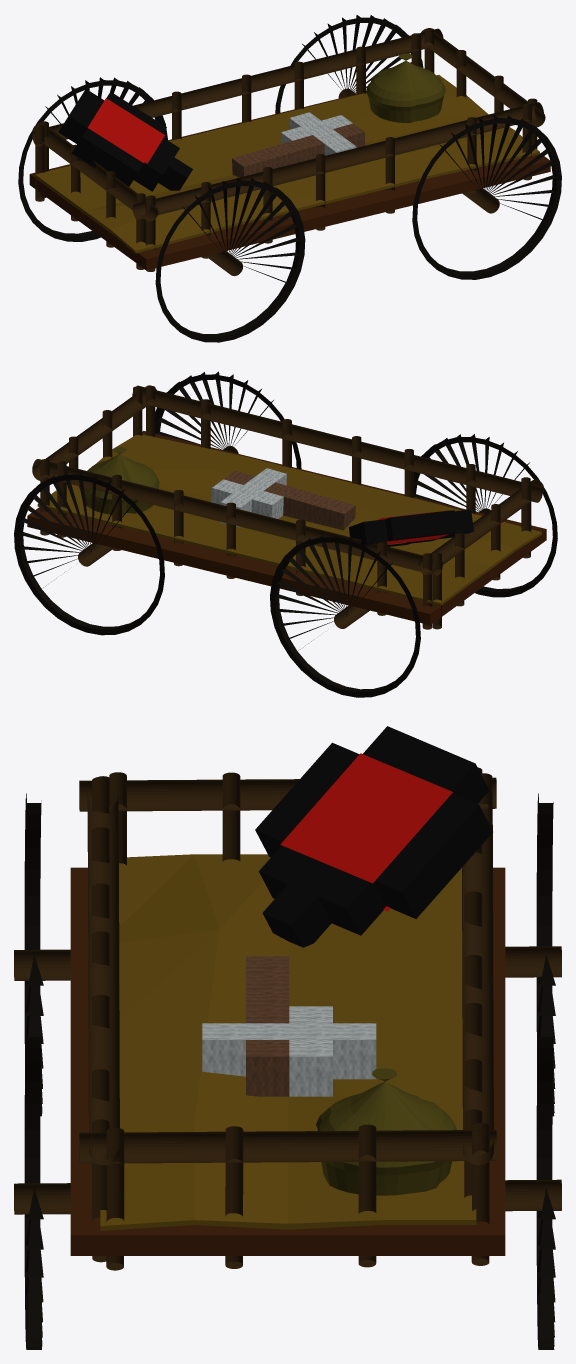
Rendered from cart2.obj.
The picture shows the model from 3 angles, top to bottom: view 1: azimuth 30°, elevation 25°; view 2: azimuth 150°, elevation 25°; view 3: azimuth 270°, elevation 25°; orthographic projection. The views are drawn at different scales.
Parts seen in each view (by area): view 1: Circle.004; view 2: Circle.004; view 3: Circle.004.
Boxes of the visible parts, x1,y1,x2,y2 form: Circle.004: (18,15,561,342); Circle.004: (14,371,557,697); Circle.004: (14,726,561,1349).
Size of the model in its own units: 2.02 by 0.8016 by 1.26.
